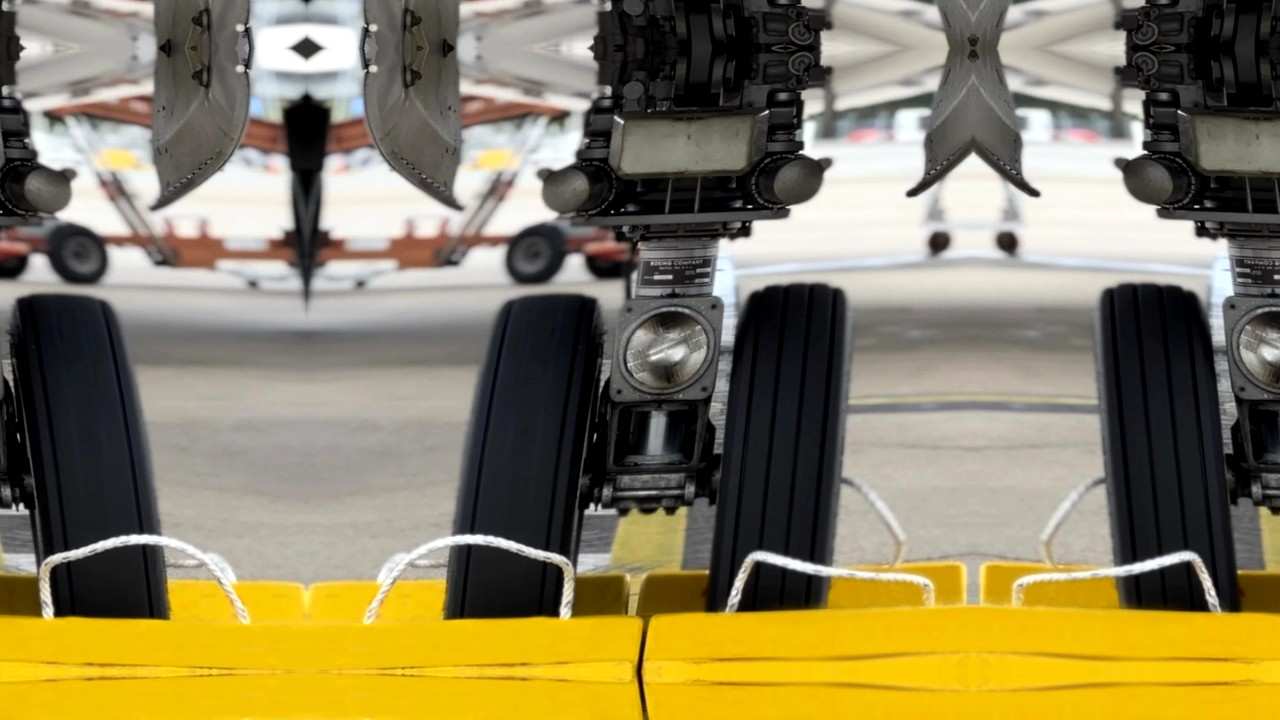chock: (637, 600, 974, 672), (973, 600, 1280, 672), (307, 610, 646, 672), (306, 567, 638, 629), (635, 559, 973, 619), (0, 567, 307, 629), (0, 610, 307, 672), (973, 559, 1280, 619), (307, 672, 646, 720), (637, 672, 974, 720), (0, 672, 307, 720), (973, 672, 1280, 720)
wheel: (1, 289, 170, 619), (443, 289, 612, 619), (701, 280, 857, 615), (1090, 280, 1246, 615), (47, 223, 110, 282), (503, 223, 566, 282), (583, 249, 631, 279), (0, 249, 30, 279)
